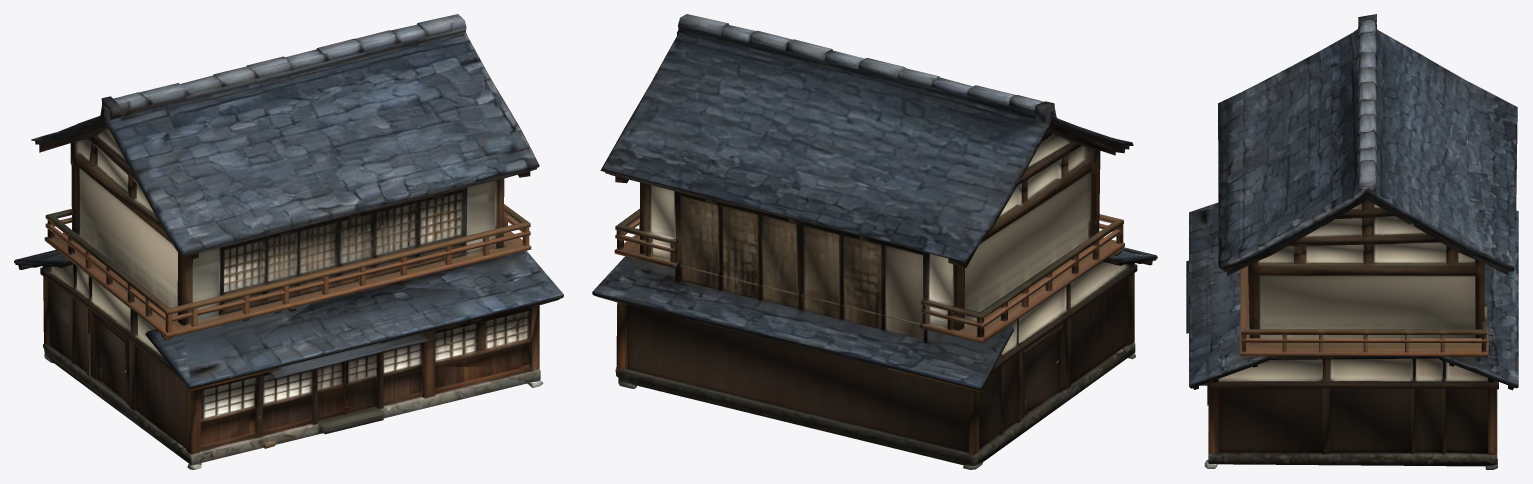
Rendered from house_big.glb.
3 renders of one model, left to right at view 1: azimuth 30°, elevation 25°; view 2: azimuth 150°, elevation 25°; view 3: azimuth 270°, elevation 25°, orthographic. The views are drawn at different scales.
Bounding box in the file's own units: 11 × 8.59 × 8.83.
Materials: 1 (1 with a texture image).
